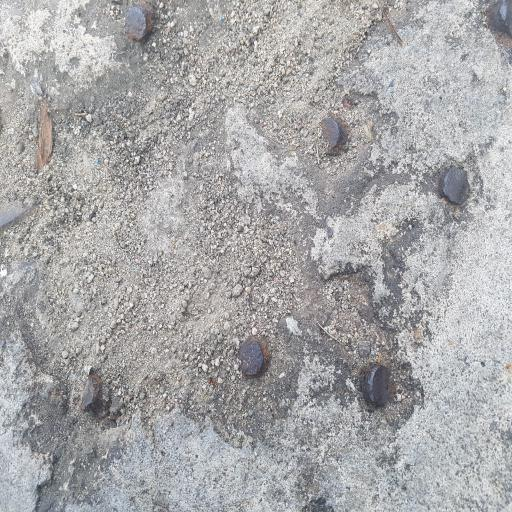exposed_rebar: (361, 364, 389, 407), (125, 2, 155, 41), (239, 340, 268, 379), (439, 167, 469, 204), (321, 117, 350, 154), (79, 372, 103, 412)
